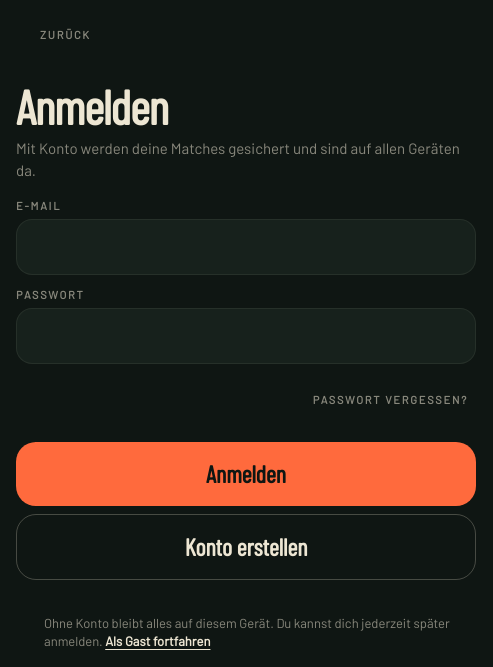
Test case: AuthScreen › sends the reset link without a password field
Click the button "Passwort vergessen?" at (390, 400), box 305,378 -> 476,422
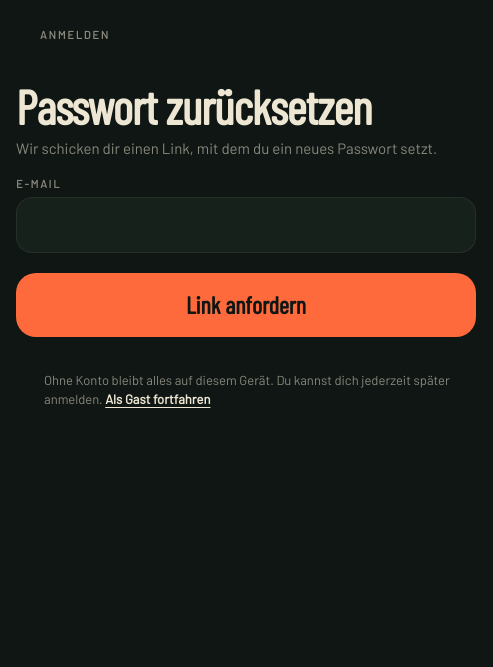
Type "marcus@beispiel.de" into the field labelled "E-Mail" at (246, 225), box 16,197 -> 476,253
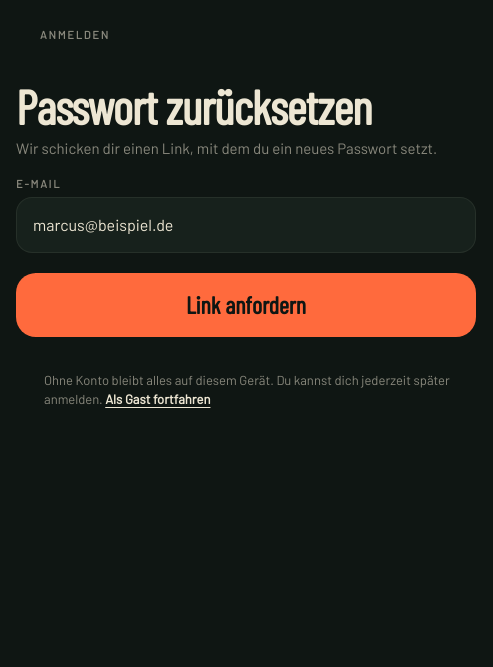
Click the button "Link anfordern" at (246, 305), box 16,273 -> 476,337
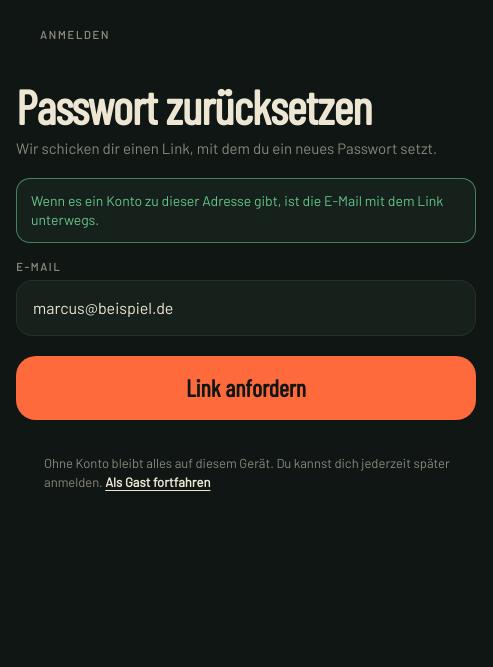
Expected: the message shows "mit dem Link unterwegs", 31,192 -> 443,228
